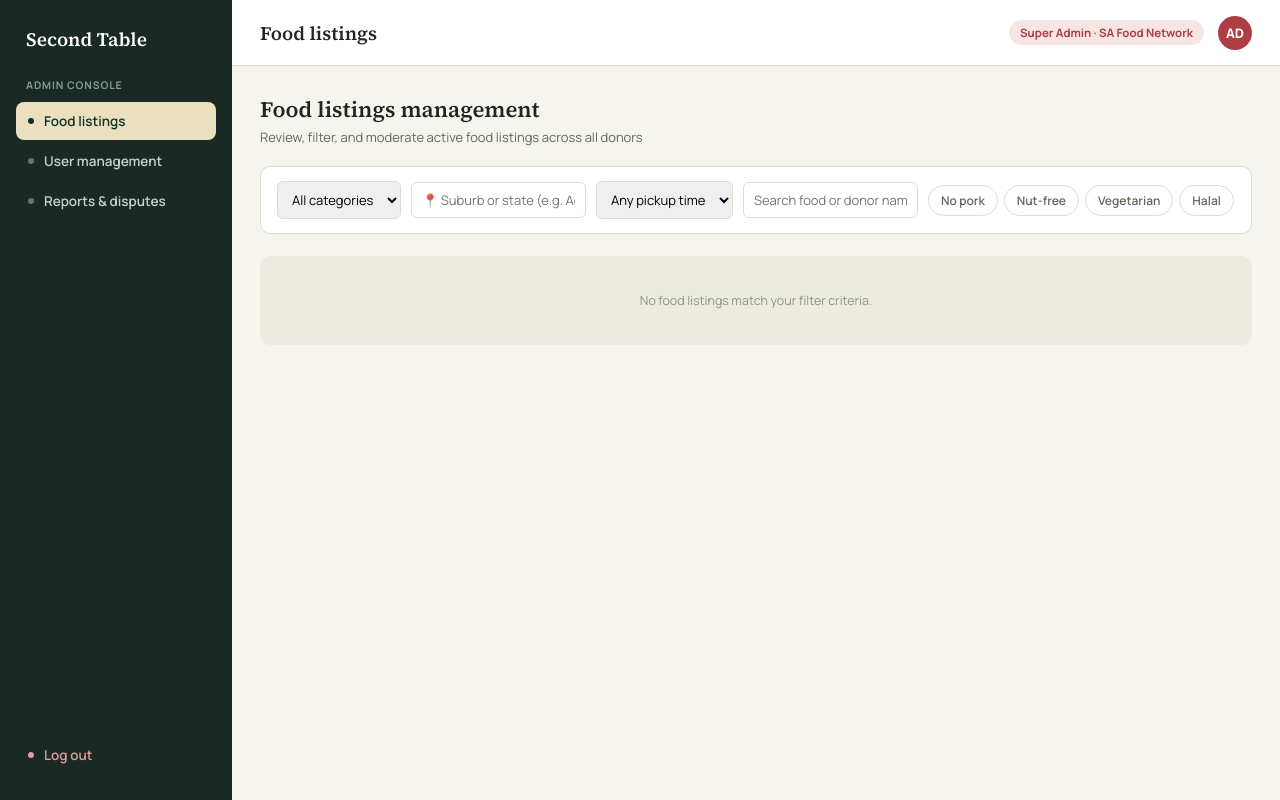
Test: loads a server page of accounts into user management
The image size is (1280, 800).
Click the element with class "sb-item" showing "User management": (95, 161) x1=28 y1=152 x2=162 y2=170
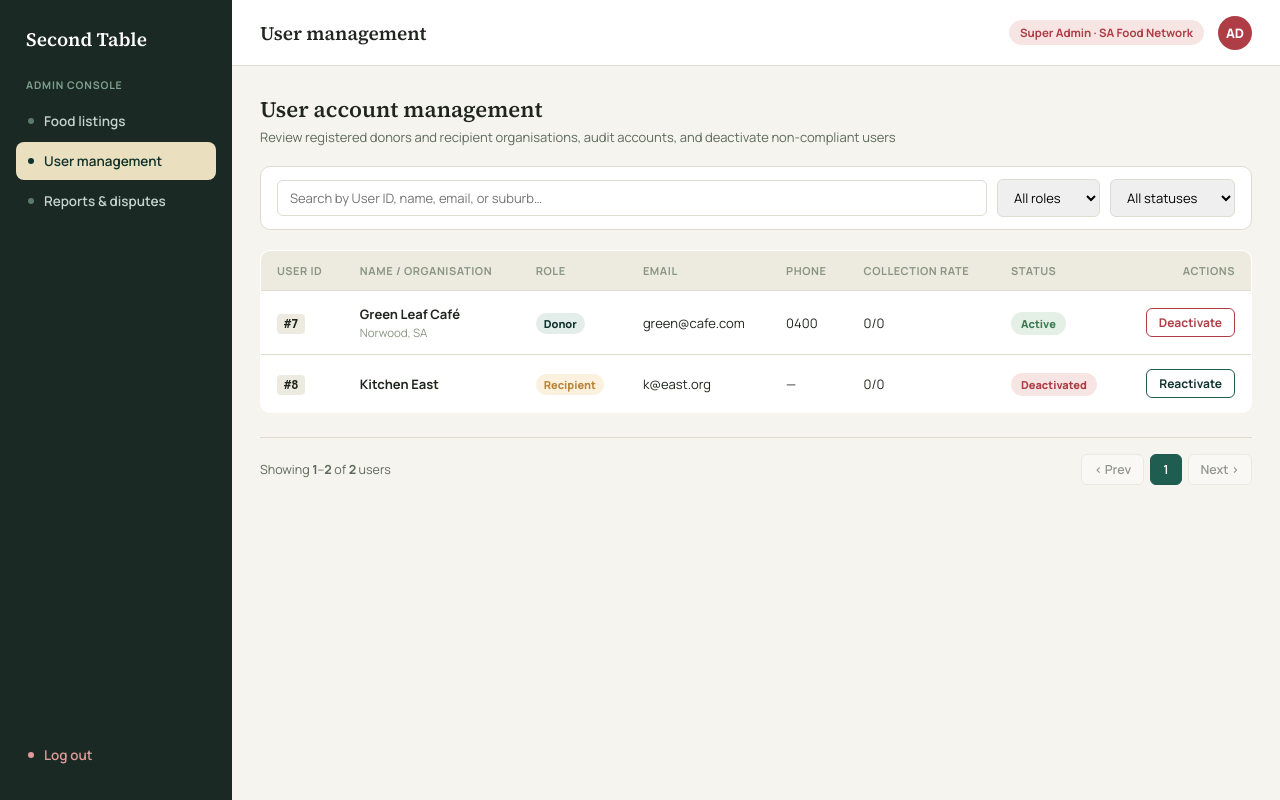
Result: the row that starts with "Green Leaf Café" is shown at x1=360 y1=305 x2=460 y2=323
Result: the row that starts with "Green Leaf Café" shows "green@cafe.com" at x1=643 y1=314 x2=745 y2=332
Result: the row that starts with "Green Leaf Café" shows "Active" at x1=1021 y1=316 x2=1056 y2=330
